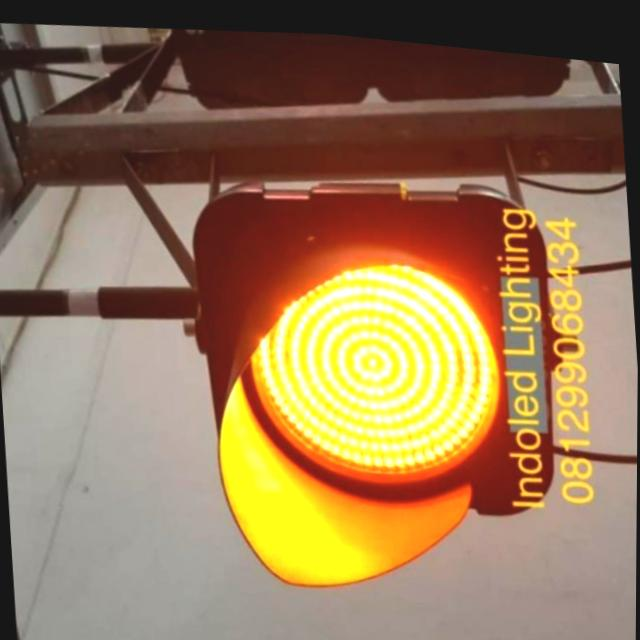Kuning: (243, 232, 507, 489)
